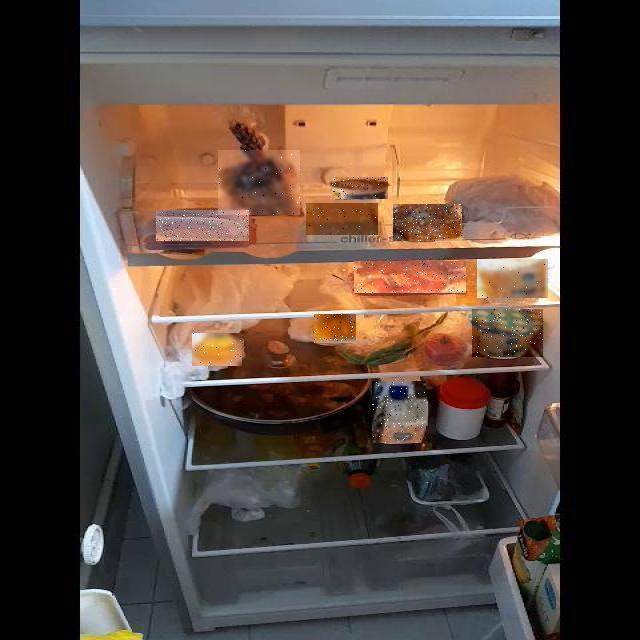carrot: (121, 146, 587, 440)
cheese: (118, 118, 496, 352)
milk: (159, 222, 585, 640)
